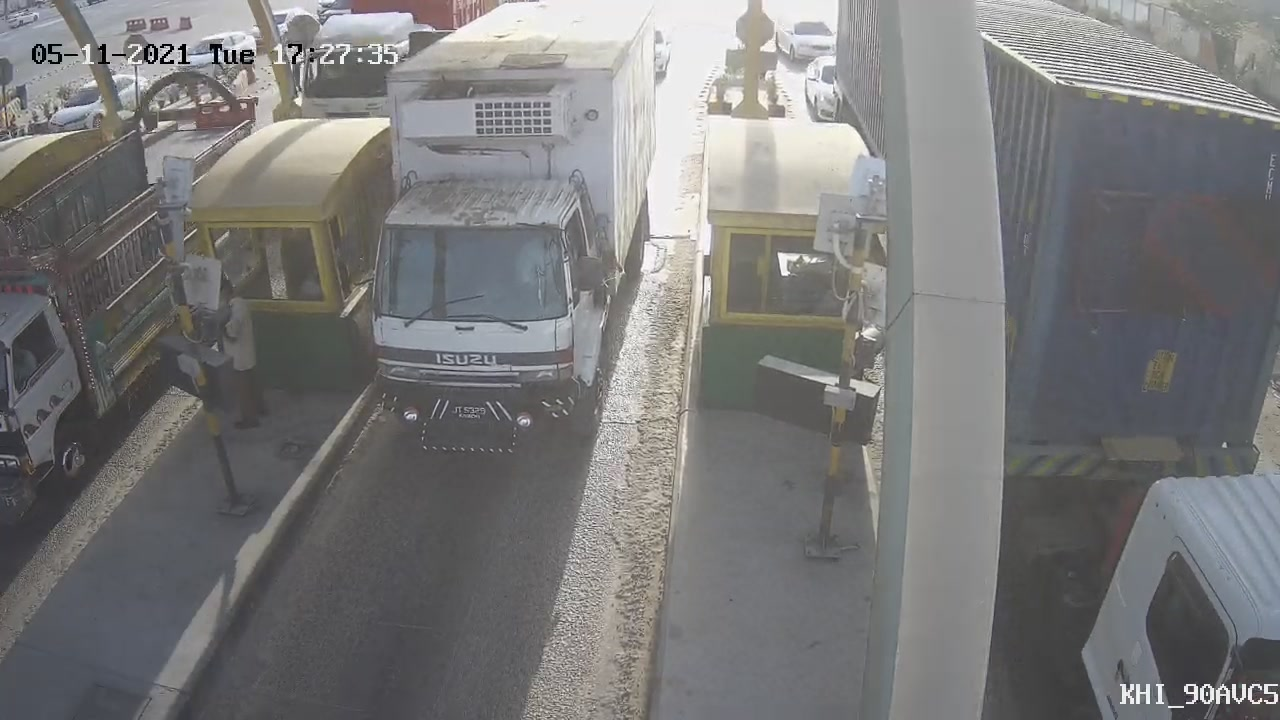F5: (309, 1, 683, 482)
